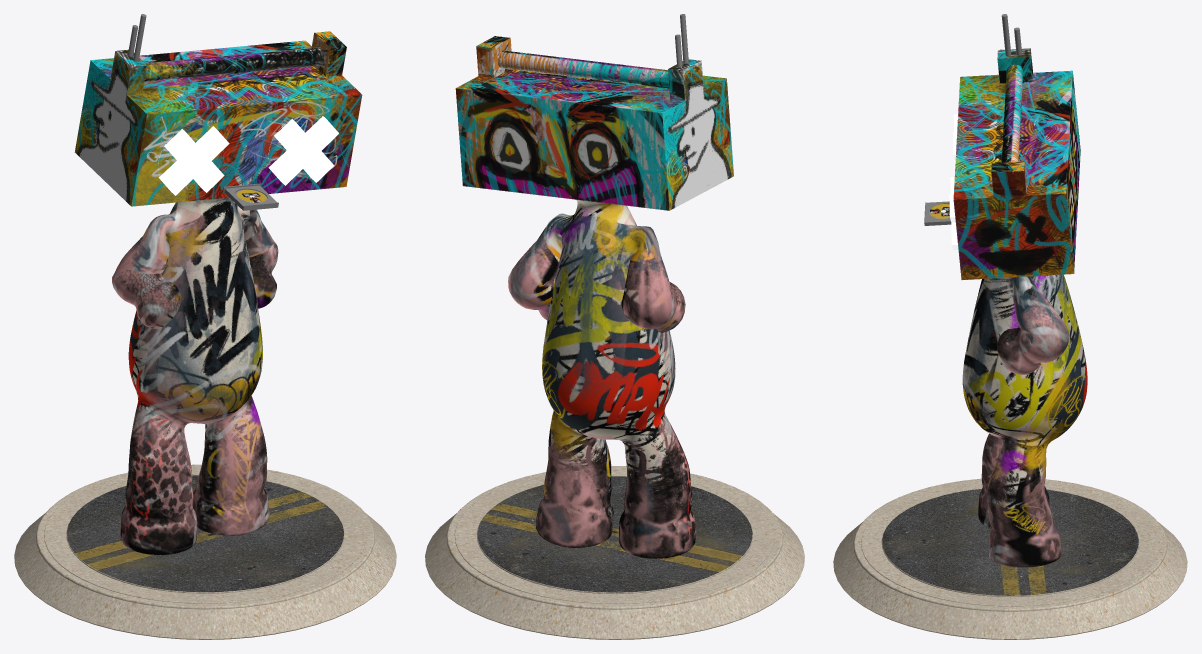
The picture shows the model from 3 angles, left to right: view 1: azimuth 30°, elevation 25°; view 2: azimuth 150°, elevation 25°; view 3: azimuth 270°, elevation 25°; orthographic projection. The views are drawn at different scales.
Parts seen in each view (by area): view 1: BBody; view 2: BBody; view 3: BBody.
Boxes of the visible parts, <box> form: BBody: <box>14,14,396,639</box>; BBody: <box>425,14,804,639</box>; BBody: <box>833,14,1187,639</box>.
Size of the model in its own units: 1.45 by 2.35 by 1.45.
9 materials, 5 textured.
